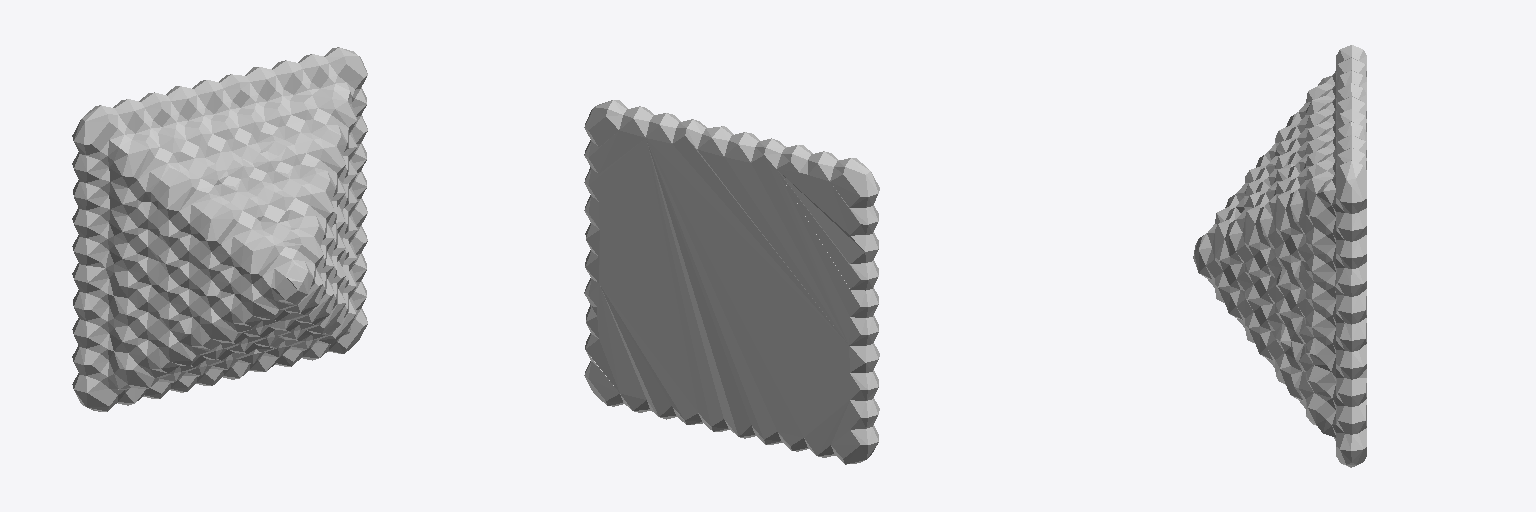
File: testCode_CModel.obj
3 renders of one model, left to right at view 1: azimuth 30°, elevation 25°; view 2: azimuth 150°, elevation 25°; view 3: azimuth 270°, elevation 25°, orthographic.
Visible parts, largest first — view 1: vivid_3d_obj; view 2: vivid_3d_obj; view 3: vivid_3d_obj.
Part boxes in pixels (x1,y1,x2,y2): vivid_3d_obj: (72,47,367,411); vivid_3d_obj: (584,100,879,464); vivid_3d_obj: (1193,45,1366,467).
Bounding box in the file's own units: 22.25 × 22.25 × 11.41.